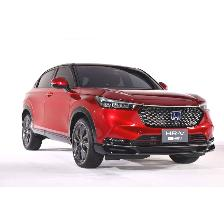NON-EV: (23, 63, 218, 169)
